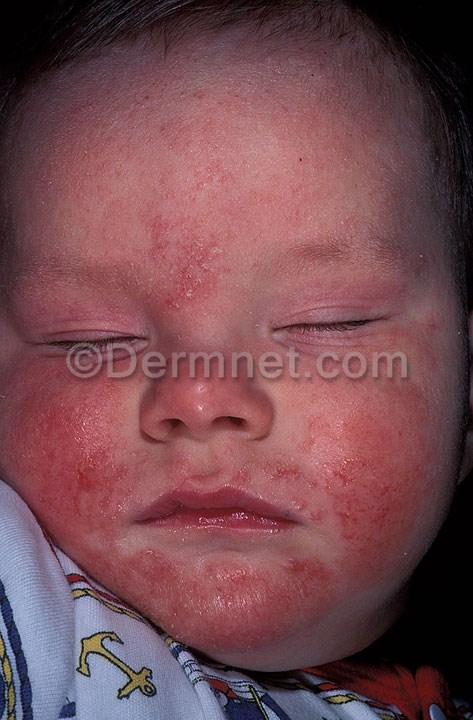Eritema 2: (0, 345, 424, 647)
exudacion 1: (332, 466, 406, 566), (67, 463, 98, 523)
xerosis 1: (134, 243, 225, 324)
